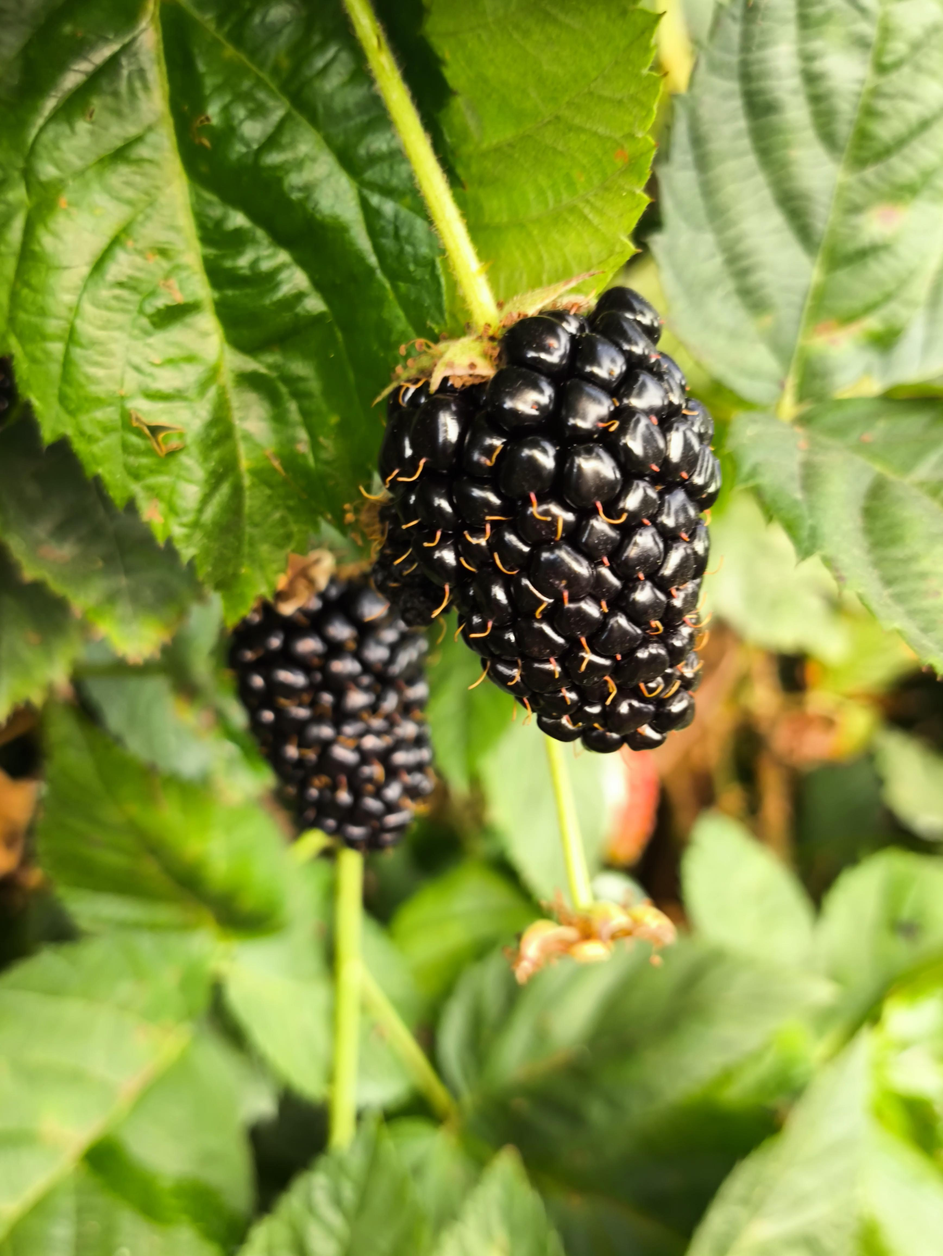maduro: (397, 293, 709, 746), (230, 574, 433, 851)
